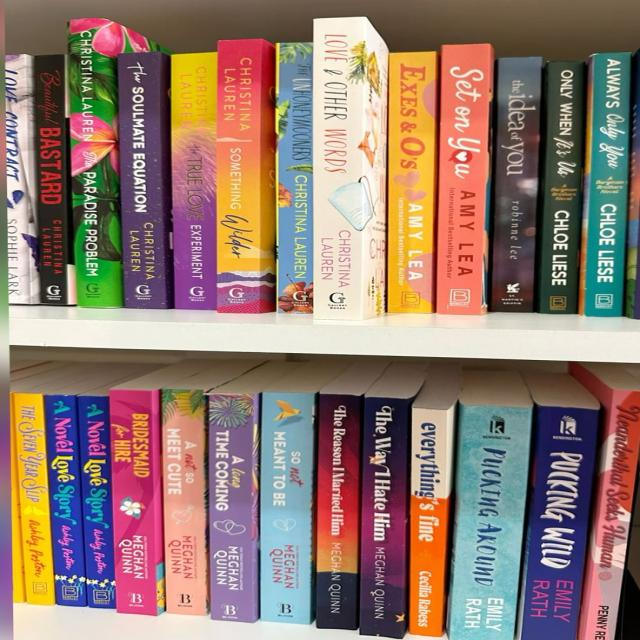book: (313, 18, 388, 321), (449, 408, 534, 639), (521, 406, 599, 639), (215, 39, 275, 313), (68, 18, 121, 307), (437, 43, 493, 315), (117, 43, 172, 309), (585, 389, 640, 640), (579, 52, 630, 317), (489, 57, 541, 312), (259, 392, 316, 624), (387, 52, 436, 313), (361, 397, 412, 637), (110, 389, 164, 615), (535, 62, 583, 314), (171, 53, 216, 310), (209, 393, 259, 622), (317, 393, 363, 630), (162, 390, 209, 615), (33, 54, 72, 306), (277, 43, 313, 314), (409, 406, 450, 637), (12, 392, 55, 605), (44, 395, 86, 606), (6, 54, 39, 304), (77, 396, 114, 608)
